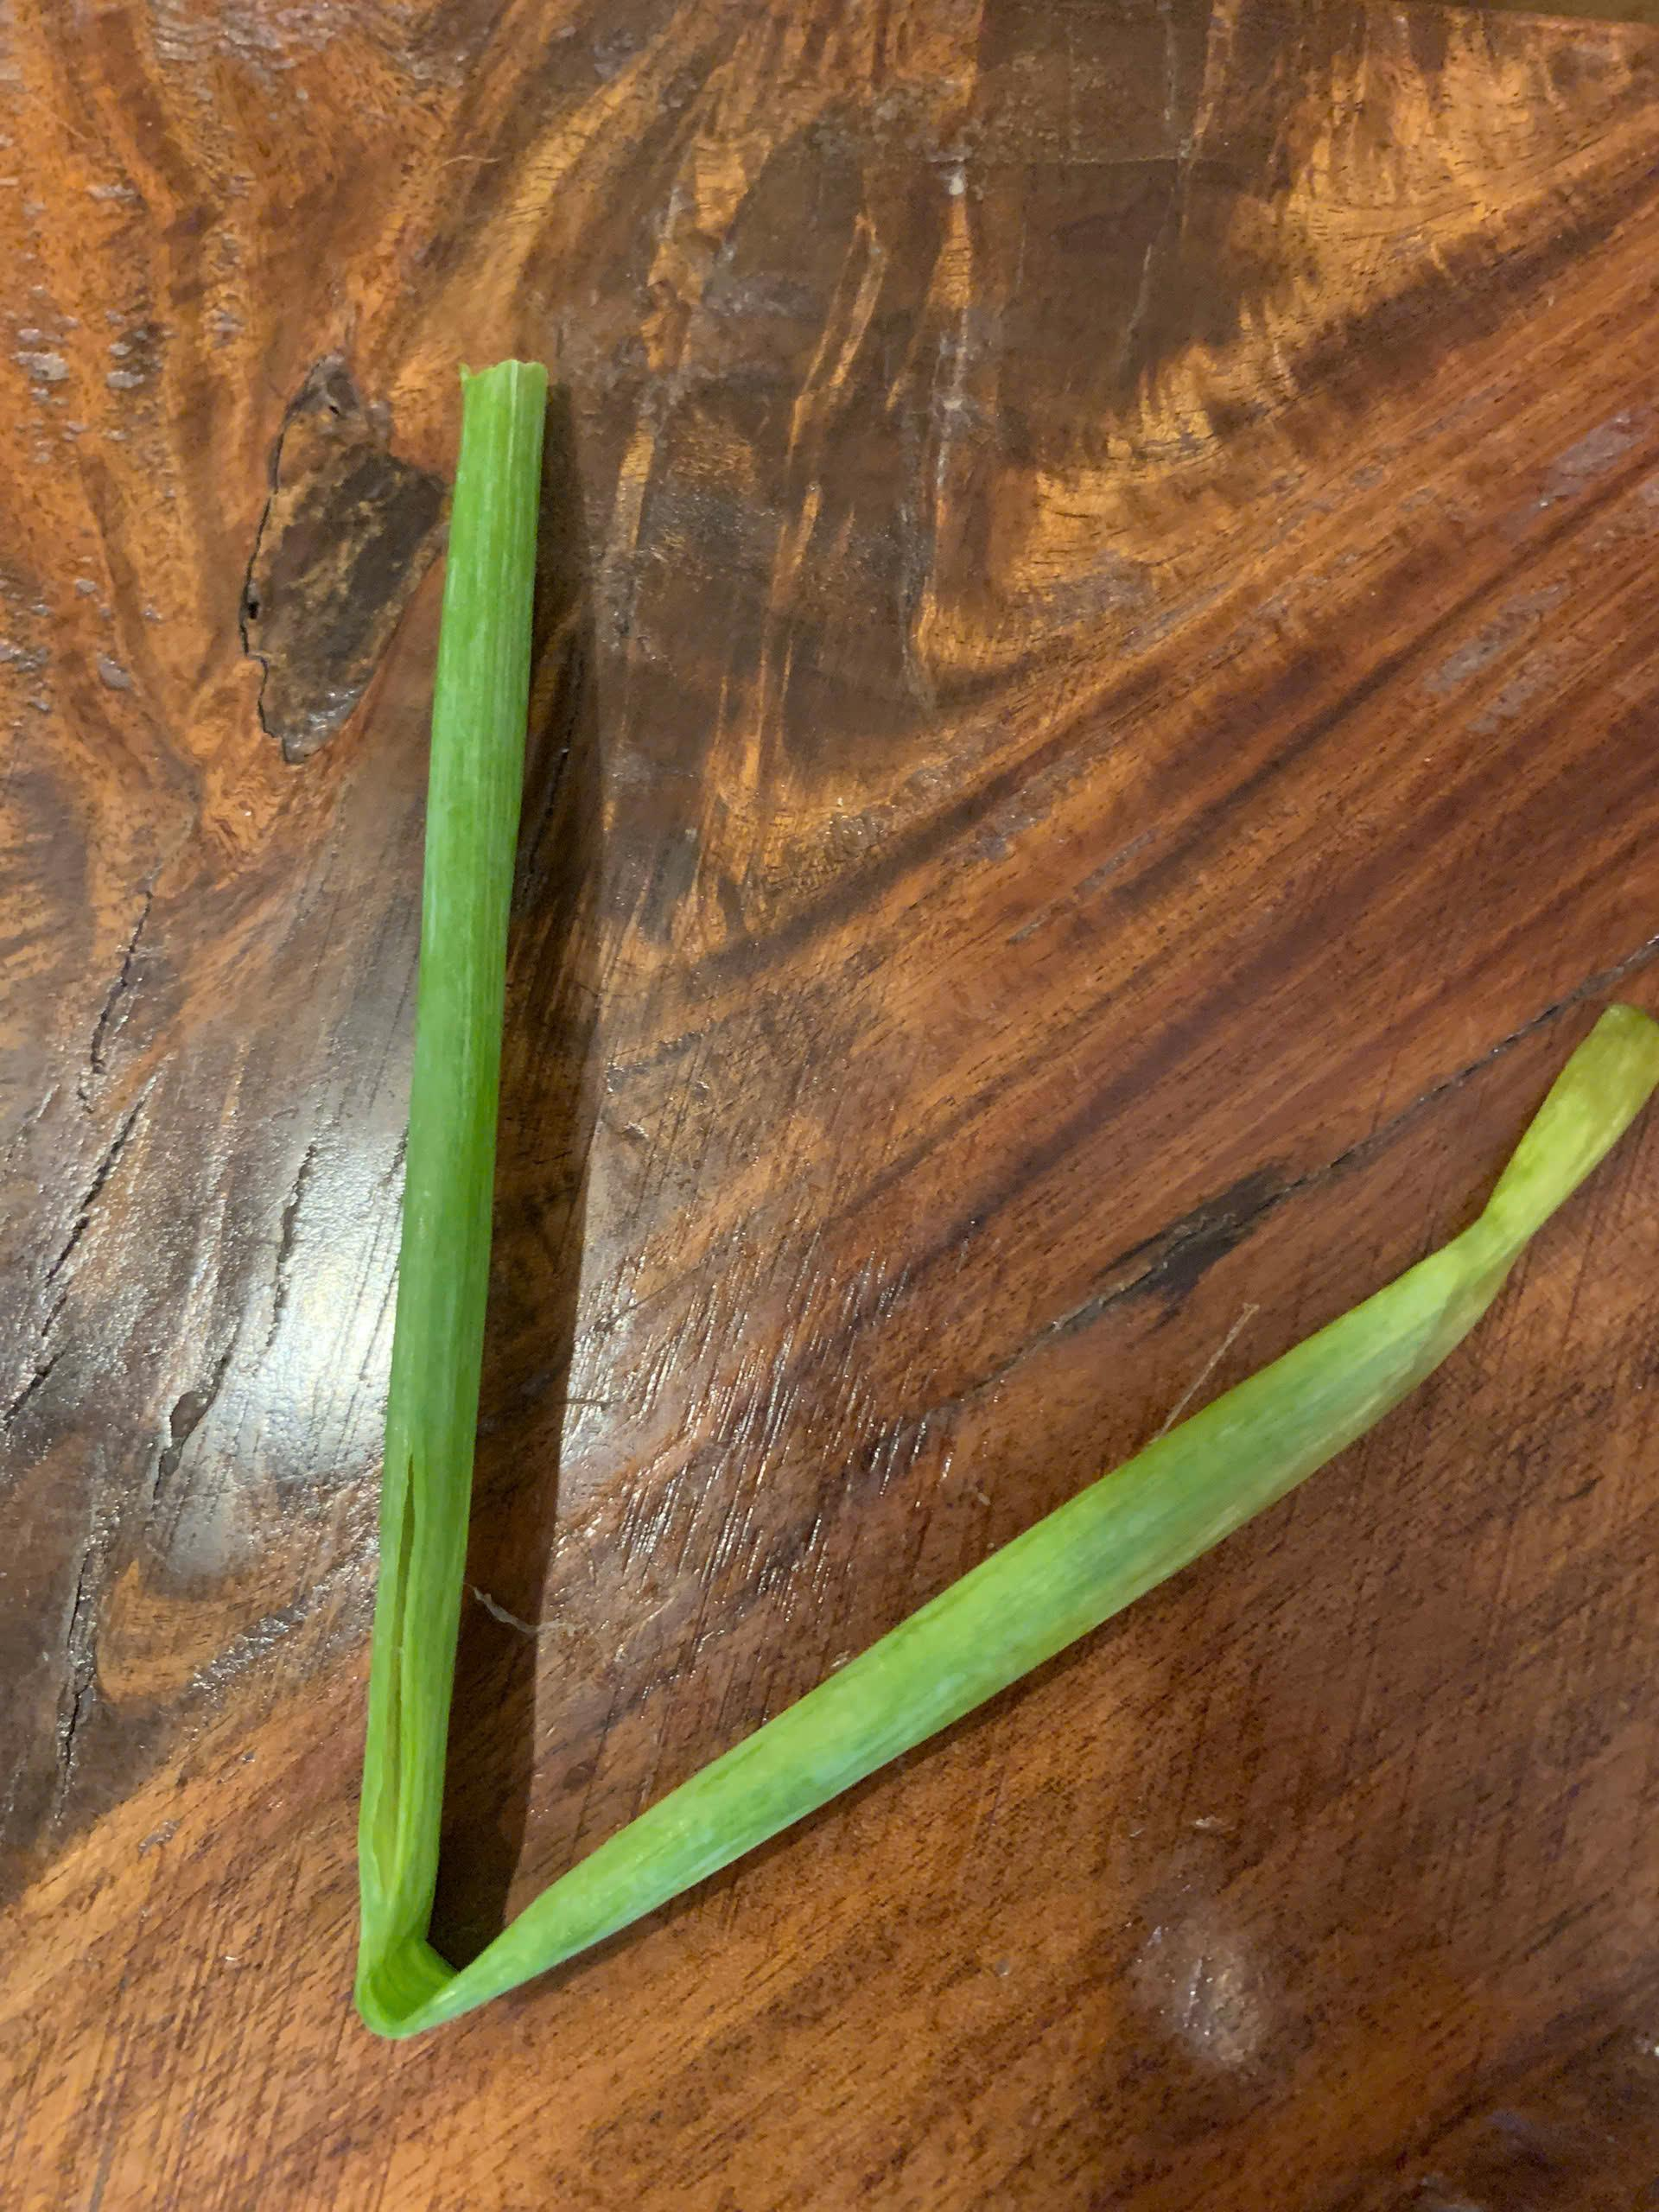Huu co: (359, 364, 1659, 2036)
